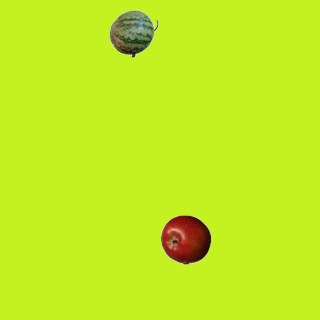Apple Braeburn: (160, 214, 210, 264)
Watermelon: (108, 8, 158, 58)
